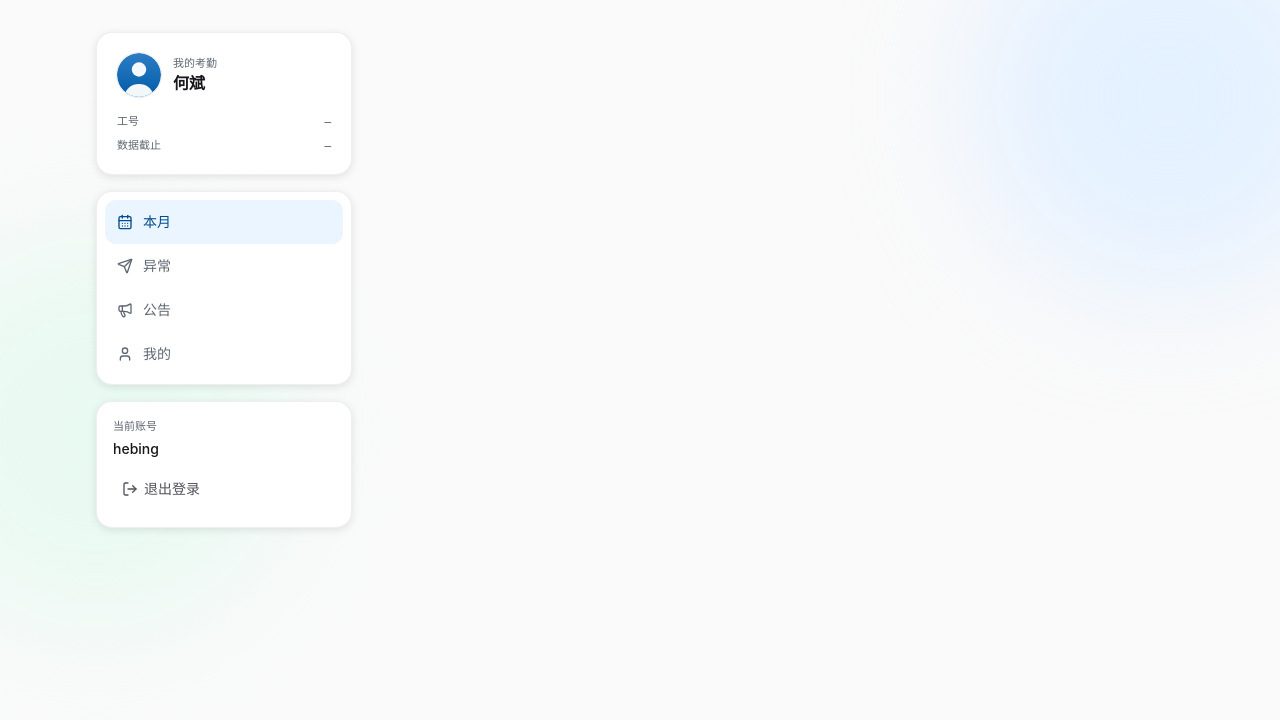
Scenario: 员工门户状态细节（qa-2 / qa-4 / qa-5 / qa-7 / qa-18） › 补卡通过后显示结论已更新
What coordinates should you click on to do the following:
click the button "我的"
I would click on:
 (224, 354)
Its box is [105,332,343,376].
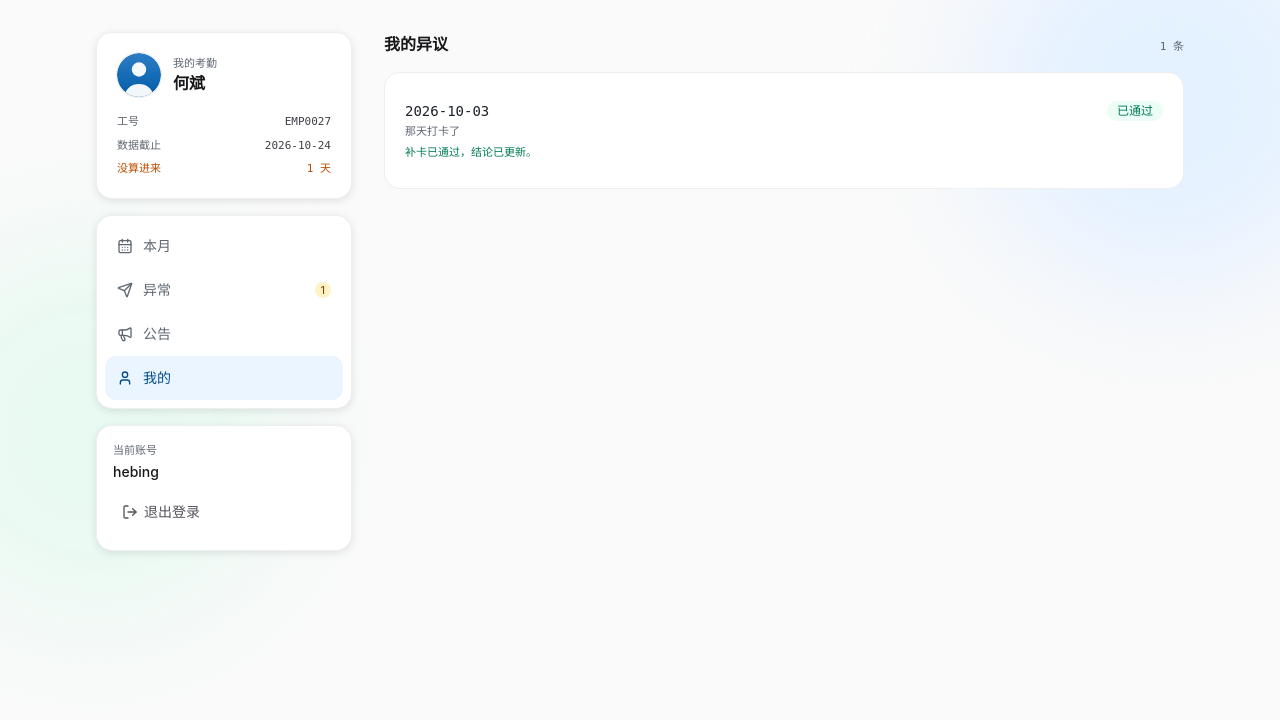
Result: the text "补卡已通过，结论已更新。" is shown at [405,144,537,158]
